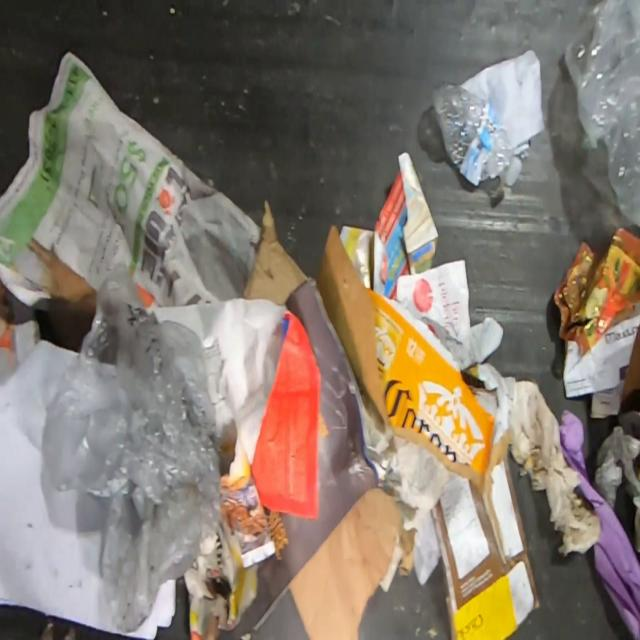cardboard: (316, 226, 493, 488), (430, 370, 540, 639), (288, 483, 415, 639), (243, 198, 308, 306), (46, 253, 100, 356)
rigid_plastic: (436, 82, 522, 188)
soft_plastic: (50, 256, 222, 621), (564, 0, 640, 221)
